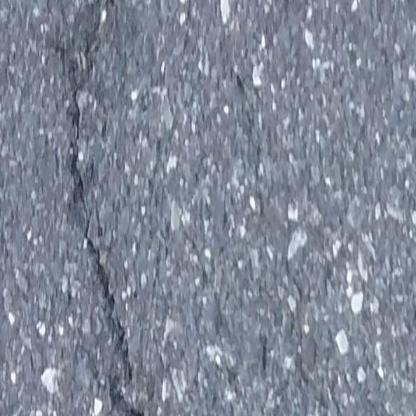Cracks: (42, 0, 170, 416)
